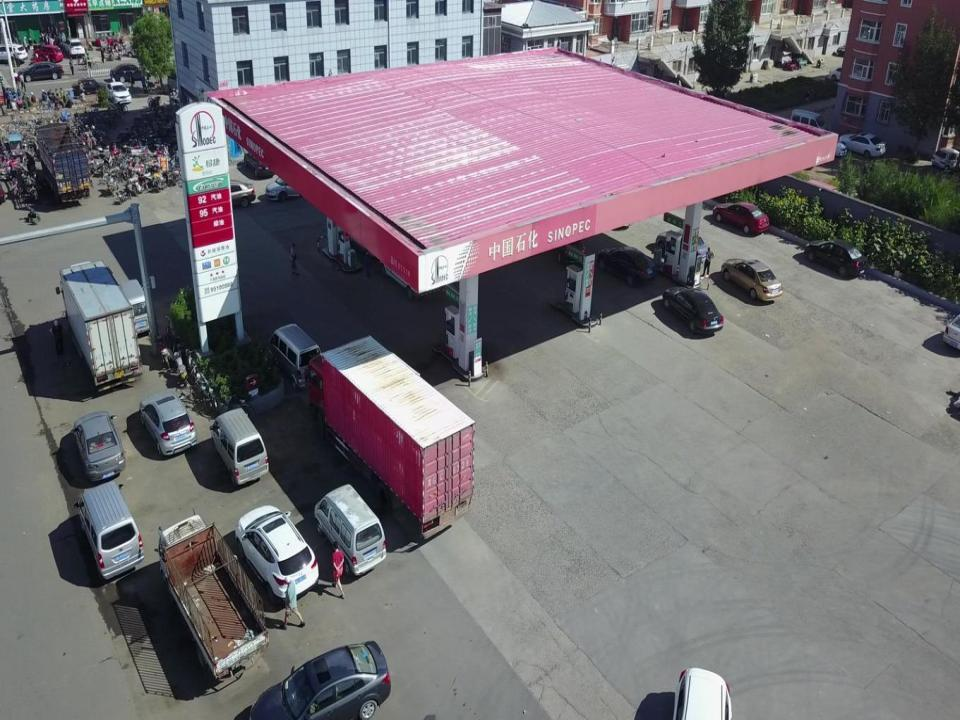car: (252, 640, 390, 720), (235, 506, 320, 600), (72, 412, 126, 481), (139, 394, 198, 456), (722, 258, 782, 303), (594, 244, 655, 288), (664, 288, 724, 332), (802, 239, 867, 278), (654, 226, 710, 268), (713, 200, 770, 236), (264, 170, 316, 204), (201, 183, 256, 214), (838, 131, 886, 160), (807, 128, 847, 161), (244, 139, 273, 180), (18, 62, 64, 81), (929, 146, 960, 172), (110, 63, 153, 81), (71, 76, 107, 93), (124, 41, 160, 58), (103, 83, 131, 103), (33, 45, 64, 63), (830, 65, 858, 82), (62, 38, 85, 58), (836, 40, 862, 57)
truck: (159, 512, 267, 674), (34, 124, 92, 200)
van: (73, 483, 144, 581), (315, 488, 387, 576), (211, 410, 269, 487), (268, 324, 321, 390), (111, 278, 150, 340), (788, 108, 828, 140)
